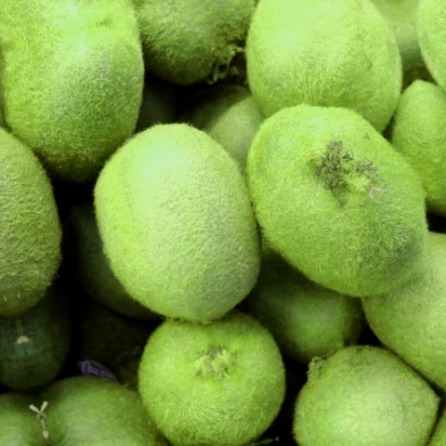kiwi: (60, 102, 300, 363), (219, 68, 446, 334), (221, 0, 423, 162), (115, 279, 303, 446)
